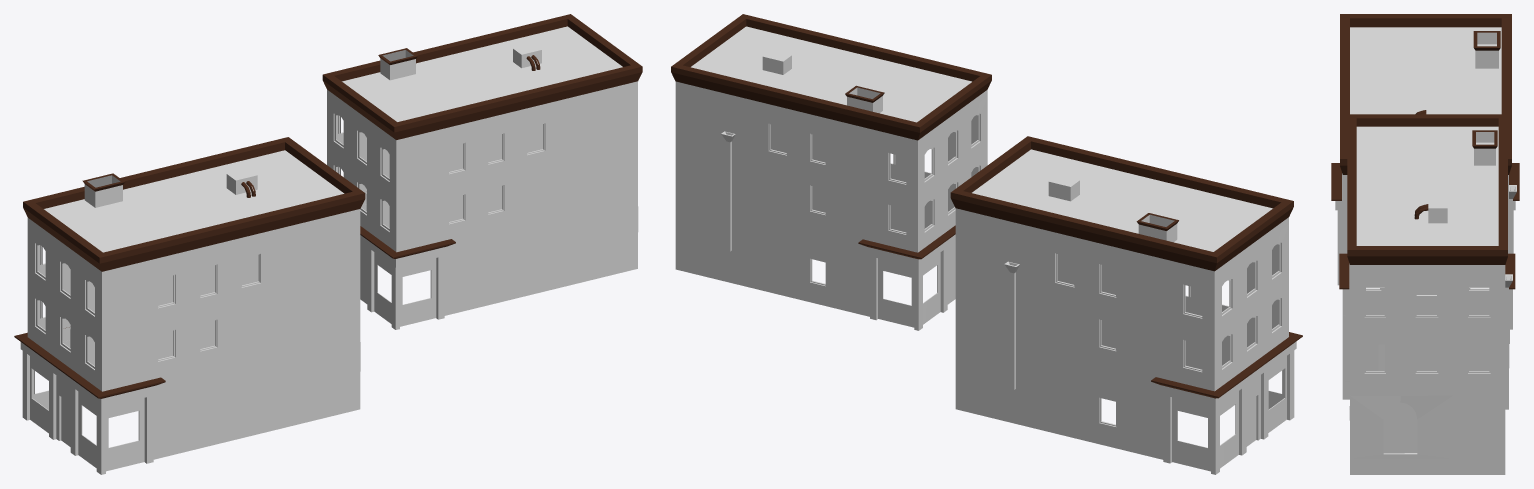
File: Stage2.fbx
3 views of the same model, side by side, from view 1: azimuth 30°, elevation 25°; view 2: azimuth 150°, elevation 25°; view 3: azimuth 270°, elevation 25° (orthographic). The views are drawn at different scales.
Parts seen in each view (by area): view 1: pasted__pasted__pasted__Cube, pasted__pasted__Cube; view 2: pasted__pasted__pasted__Cube, pasted__pasted__Cube; view 3: pasted__pasted__Cube, pasted__pasted__pasted__Cube.
Part boxes in pixels (x1=…): pasted__pasted__pasted__Cube: x1=14, y1=137, x2=365, y2=474; pasted__pasted__Cube: x1=322, y1=14, x2=642, y2=329; pasted__pasted__pasted__Cube: x1=950, y1=136, x2=1302, y2=474; pasted__pasted__Cube: x1=671, y1=14, x2=991, y2=330; pasted__pasted__Cube: x1=1339, y1=114, x2=1515, y2=474; pasted__pasted__pasted__Cube: x1=1331, y1=14, x2=1519, y2=399.
Bounding box in the file's own units: 842 × 413 × 222.
